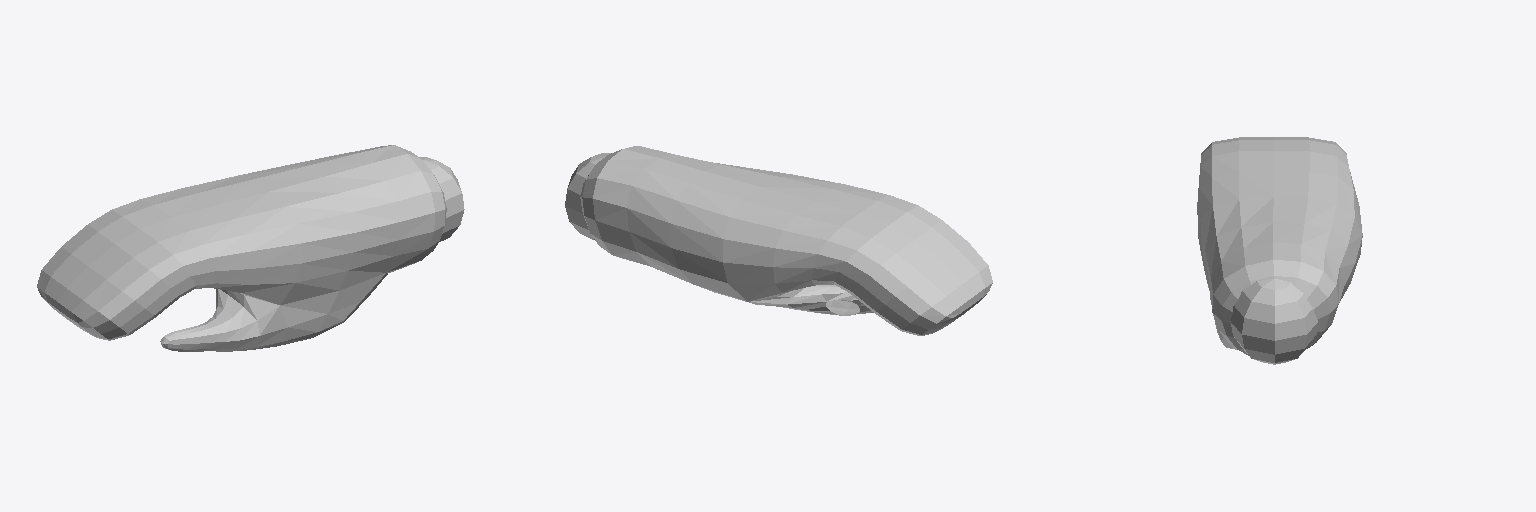
File: 05_handR.obj
3 views of the same model, side by side, from view 1: azimuth 30°, elevation 25°; view 2: azimuth 150°, elevation 25°; view 3: azimuth 270°, elevation 25° (orthographic).
Parts seen in each view (by area): view 1: hand_R; view 2: hand_R; view 3: hand_R.
Part boxes in pixels (bbox=[...]): hand_R: bbox=[37, 145, 464, 351]; hand_R: bbox=[565, 146, 992, 335]; hand_R: bbox=[1197, 137, 1362, 364].
Bounding box in the file's own units: 1.2 × 0.3923 × 0.429.